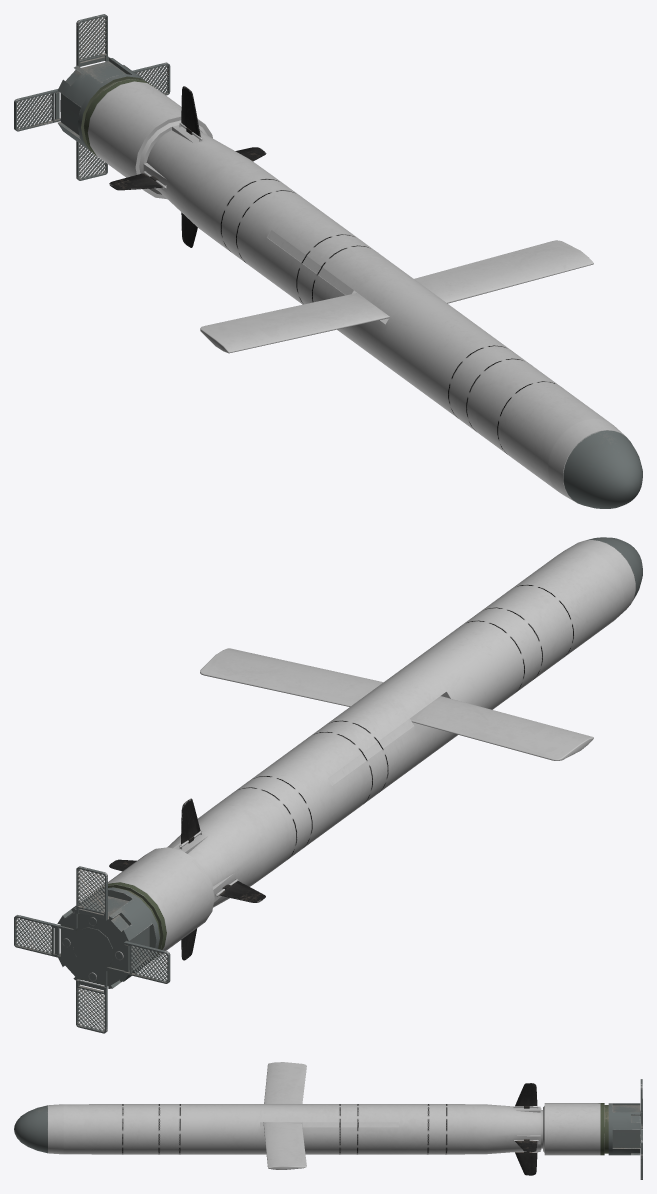
Rendered from kalibr3d.glb.
3 views of the same model, one above another, from view 1: azimuth 30°, elevation 25°; view 2: azimuth 150°, elevation 25°; view 3: azimuth 270°, elevation 25° (orthographic). The views are drawn at different scales.
Visible parts, largest first — view 1: kalibr; view 2: kalibr; view 3: kalibr.
Boxes of the visible parts, left/top/right/bottom form: kalibr: left=14, top=14, right=642, bottom=508; kalibr: left=14, top=537, right=642, bottom=1033; kalibr: left=14, top=1062, right=642, bottom=1179.
Size of the model in its own units: 2.44 by 1.02 by 6.22.
1 material, 1 textured.
